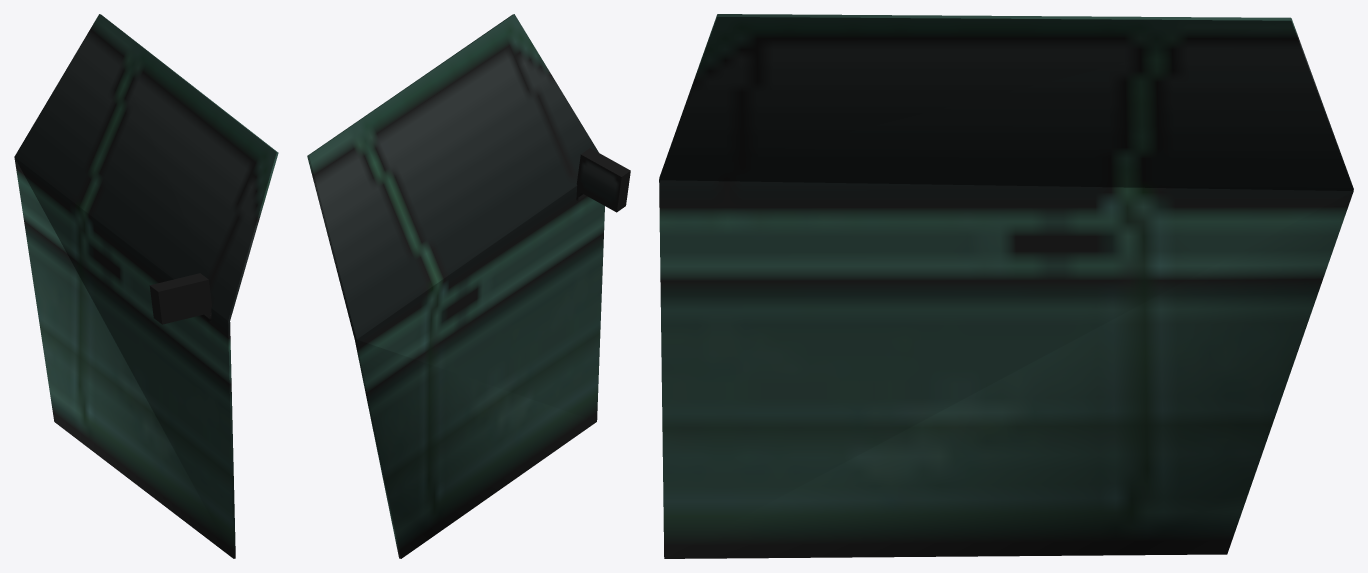
Rendered from car_cricket_door_FR.obj.
The picture shows the model from 3 angles, left to right: view 1: azimuth 30°, elevation 25°; view 2: azimuth 150°, elevation 25°; view 3: azimuth 270°, elevation 25°; orthographic projection. The views are drawn at different scales.
Visible parts, largest first — view 1: Car3.001; view 2: Car3.001; view 3: Car3.001.
Boxes of the visible parts, box(x1,y1,x2,y2) form: Car3.001: box(14, 14, 278, 558); Car3.001: box(307, 14, 630, 558); Car3.001: box(659, 14, 1353, 558).
Bounding box in the file's own units: 0.6 × 1.78 × 1.89.
